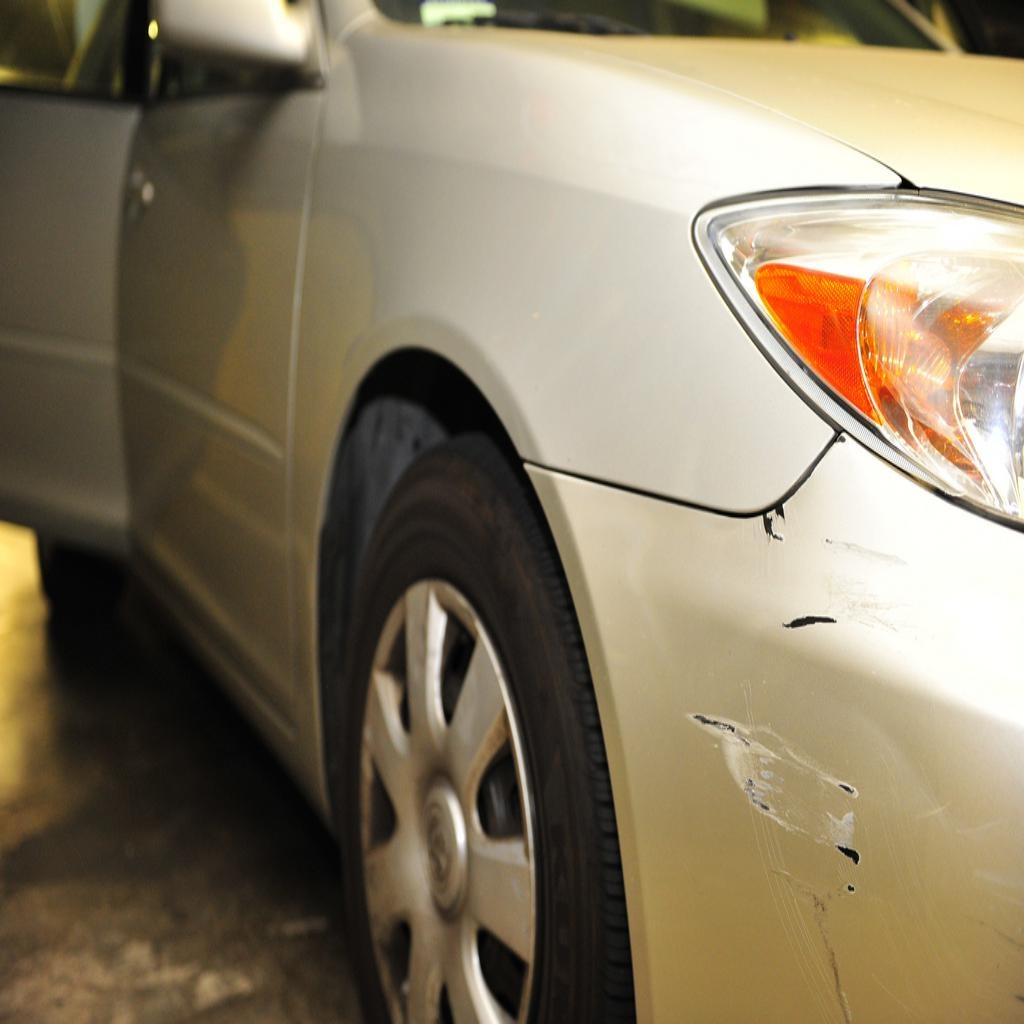Scratch: (677, 708, 875, 889), (788, 879, 859, 1018), (757, 501, 802, 554), (780, 608, 838, 637)
